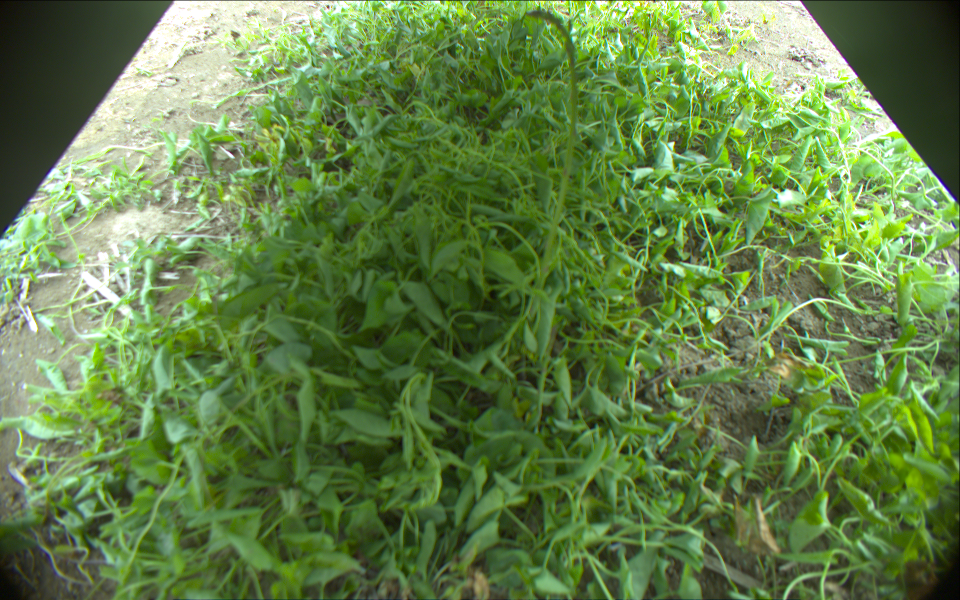aspa: (525, 9, 580, 310)
